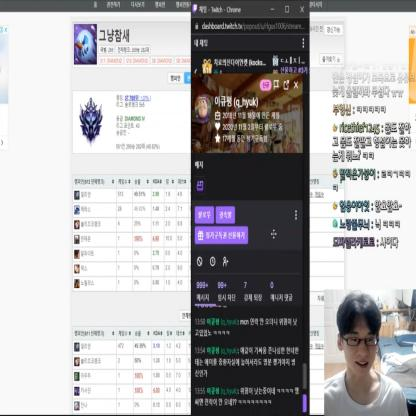streamer: (324, 292, 409, 416)
